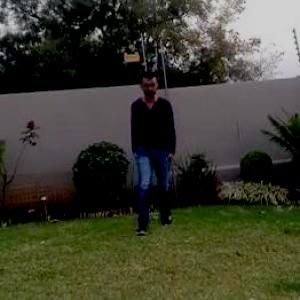follow: (117, 63, 174, 243)
